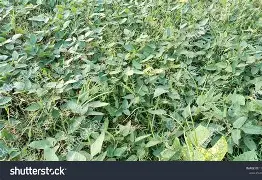crops: (0, 0, 258, 159), (94, 3, 158, 59), (206, 33, 262, 90), (217, 91, 262, 149), (96, 117, 156, 159), (2, 0, 66, 37), (203, 0, 255, 36), (26, 92, 69, 135), (60, 87, 110, 122), (184, 81, 224, 123), (102, 81, 143, 121)
